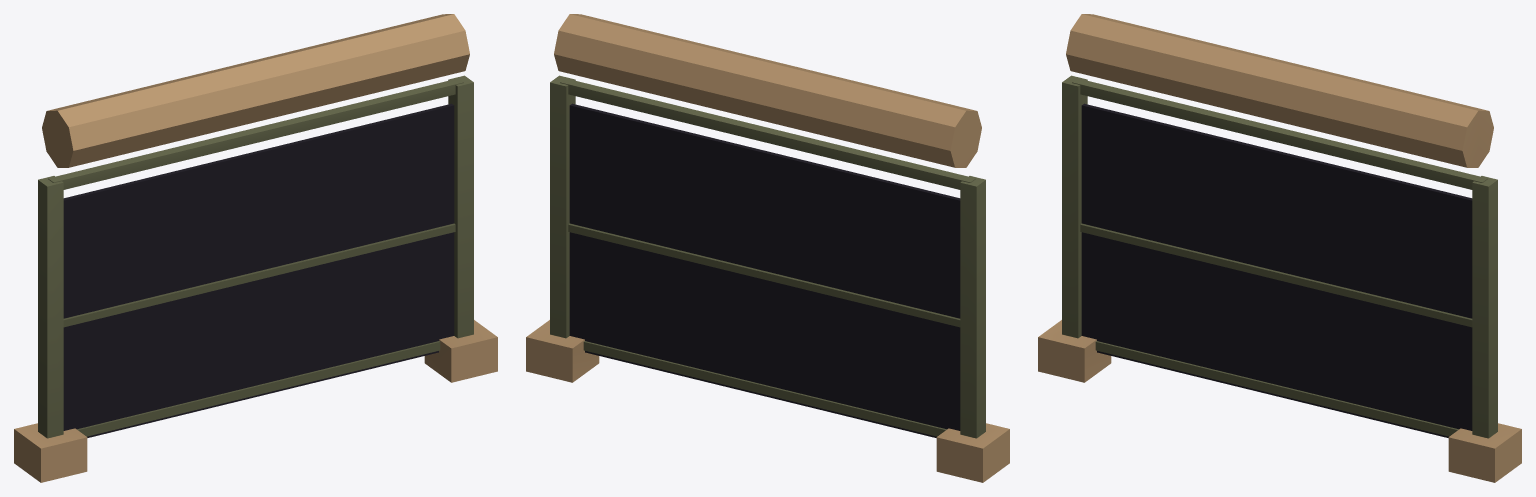
The model's file is prop.cure-mil-fence.lod1.glb.
3 views of the same model, side by side, from view 1: azimuth 30°, elevation 25°; view 2: azimuth 150°, elevation 25°; view 3: azimuth 330°, elevation 25° (orthographic).
Visible parts, largest first — view 1: body; view 2: body; view 3: body.
Part boxes in pixels (bbox=[...]): body: bbox=[14, 14, 497, 482]; body: bbox=[526, 14, 1009, 482]; body: bbox=[1038, 14, 1521, 482].
Bounding box in the file's own units: 3.34 × 2.48 × 0.4.
